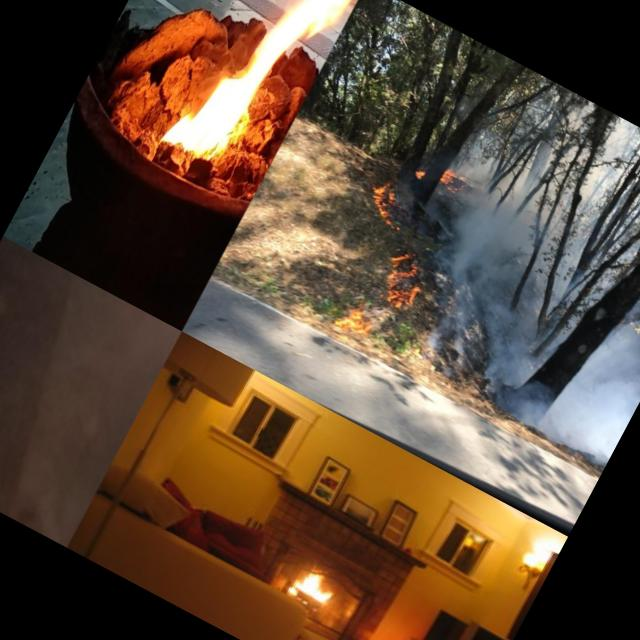fire: (163, 0, 366, 192), (334, 238, 436, 355), (358, 171, 420, 234), (284, 558, 346, 616), (434, 164, 461, 190)
smoke: (383, 178, 588, 414), (497, 268, 640, 467)
